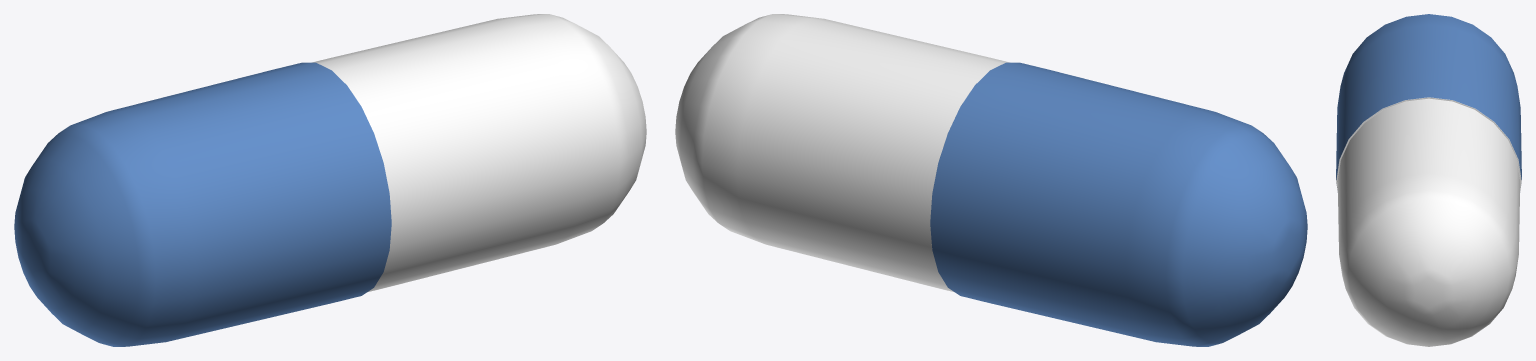
The model's file is pill.fbx.
3 renders of one model, left to right at view 1: azimuth 30°, elevation 25°; view 2: azimuth 150°, elevation 25°; view 3: azimuth 270°, elevation 25°, orthographic. The views are drawn at different scales.
Parts seen in each view (by area): view 1: pill_C_001_geo; view 2: pill_C_001_geo; view 3: pill_C_001_geo.
Part boxes in pixels (x1,y1,x2,y2): pill_C_001_geo: (14,14,646,346); pill_C_001_geo: (675,14,1307,346); pill_C_001_geo: (1336,14,1521,346).
Bounding box in the file's own units: 5.47 × 1.9 × 1.9.
Materials: 1 (1 with a texture image).
